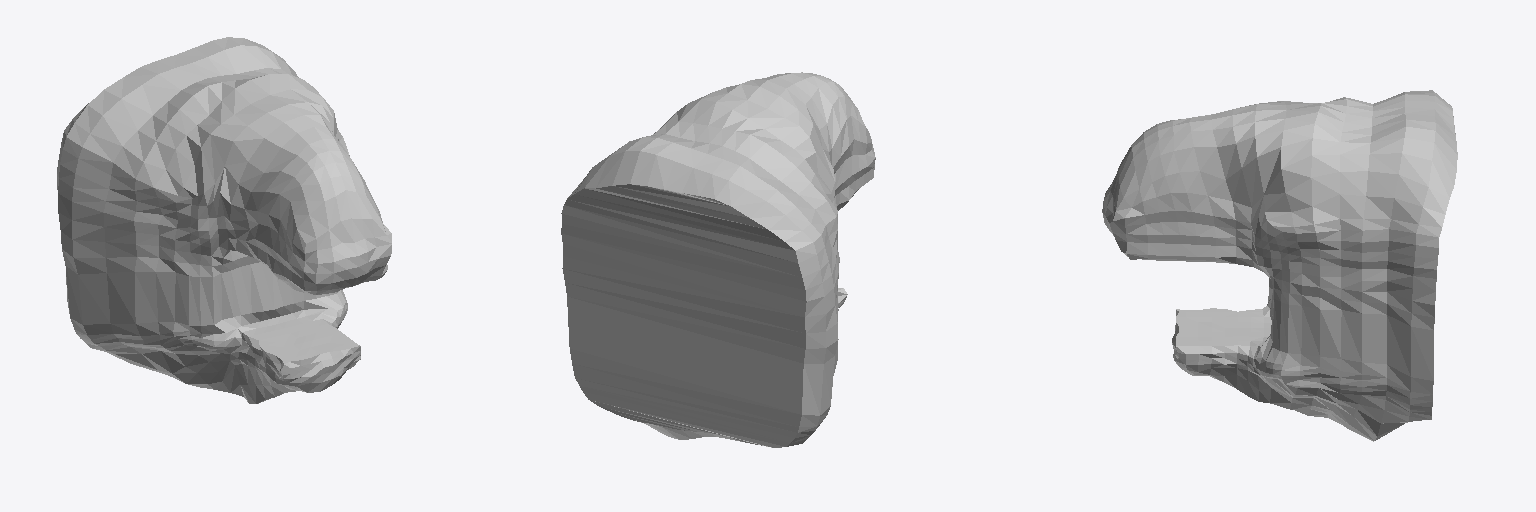
File: stoneplatform2.obj
The picture shows the model from 3 angles: view 1: azimuth 30°, elevation 25°; view 2: azimuth 150°, elevation 25°; view 3: azimuth 270°, elevation 25°; orthographic projection.
Visible parts, largest first — view 1: Cube_Cube.003; view 2: Cube_Cube.003; view 3: Cube_Cube.003.
Part boxes in pixels (x1,y1,x2,y2): Cube_Cube.003: (57,37,391,403); Cube_Cube.003: (561,72,875,447); Cube_Cube.003: (1102,90,1457,441).
Size of the model in its own units: 4.03 by 4.8 by 4.84.